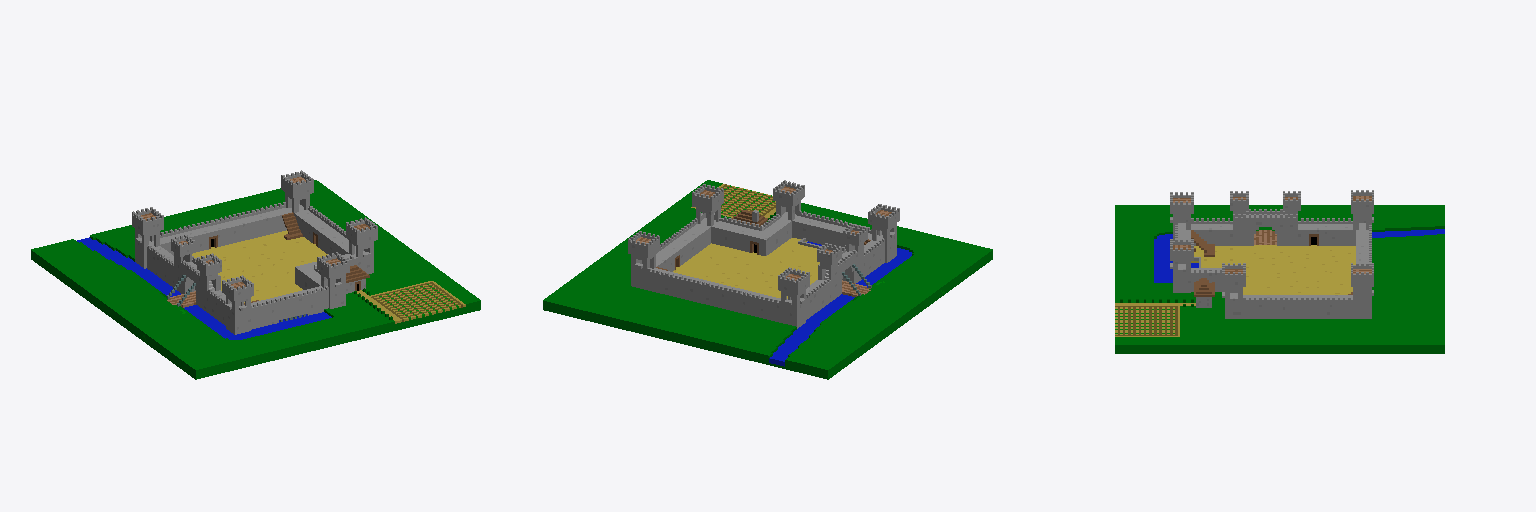
3 views of the same model, side by side, from view 1: azimuth 30°, elevation 25°; view 2: azimuth 150°, elevation 25°; view 3: azimuth 270°, elevation 25° (orthographic).
Bounding box in the file's own units: 126 × 24 × 126.
1 materials, 1 textured.